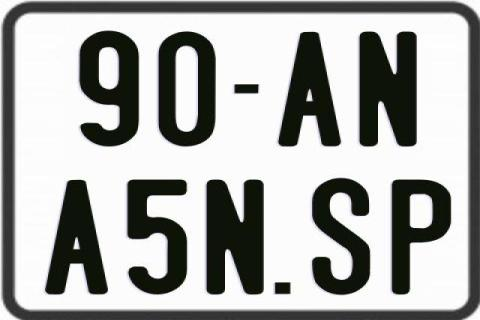0: (80, 28, 146, 146), (128, 180, 190, 298), (155, 31, 214, 150)
A: (278, 31, 346, 149), (43, 180, 110, 298)
N: (204, 178, 267, 292), (356, 30, 414, 146)
P: (391, 180, 450, 296)
S: (309, 178, 373, 294)
